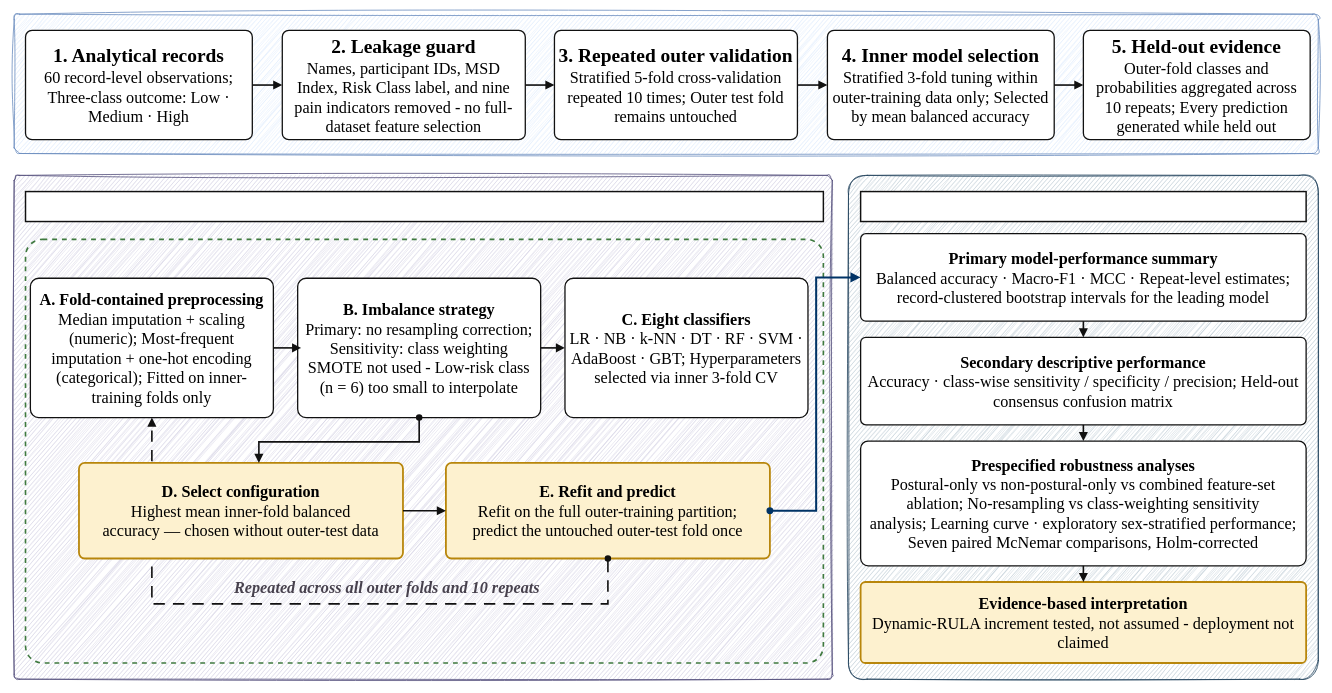
Image size: 1332x693. Some labels were removed from this diagram. The shapes that lost their labels are listed below. From the top down, each one's box as (x1, y1, x2, y2) in pixels, then its label:
(24, 190, 824, 222): Nested validation within each outer split
(859, 190, 1306, 222): Held-out analysis outputs
(24, 238, 824, 663): Outer-training partition (outer test fold held out until step E)
